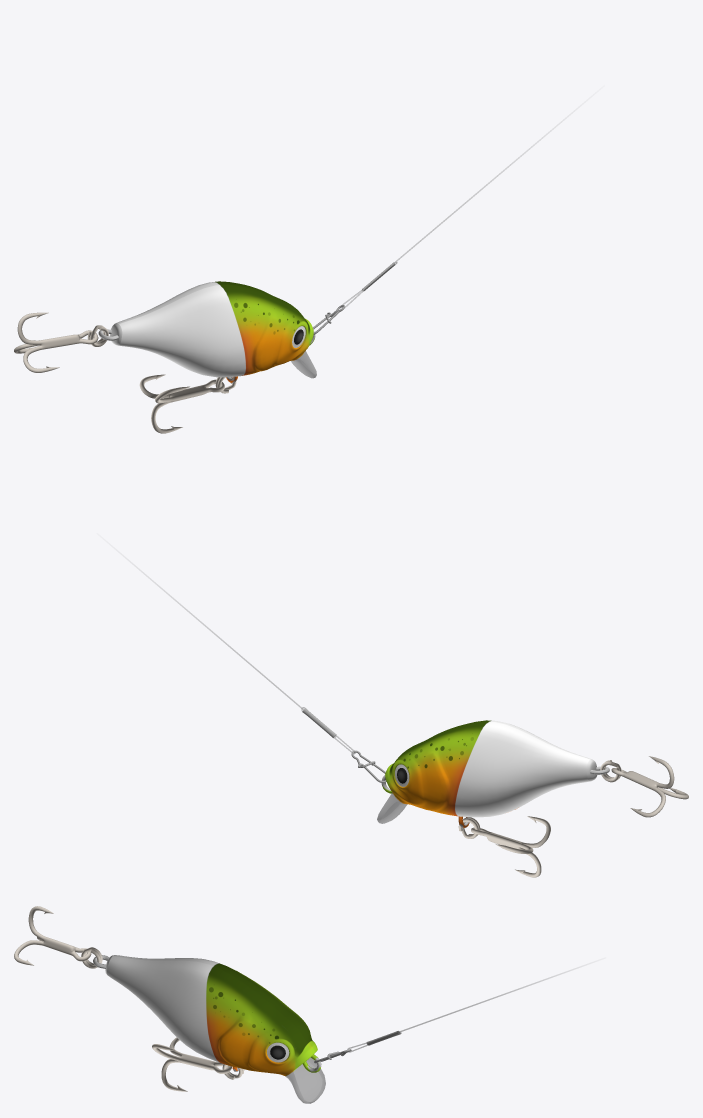
The model's file is chubby.gltf.
3 views of the same model, one above another, from view 1: azimuth 30°, elevation 25°; view 2: azimuth 150°, elevation 25°; view 3: azimuth 330°, elevation 25° (orthographic).
Visible parts, largest first — view 1: Mesh_1, Mesh_3, Mesh_2; view 2: Mesh_2, Mesh_3, Mesh_4, Mesh_1; view 3: Mesh_1, Mesh_3, Mesh_2, Mesh_4, Mesh_6.
Boxes of the visible parts, bbox=[...] form: Mesh_1: bbox=[118, 284, 316, 378]; Mesh_3: bbox=[14, 312, 316, 433]; Mesh_2: bbox=[116, 281, 306, 323]; Mesh_2: bbox=[385, 721, 589, 817]; Mesh_3: bbox=[377, 756, 688, 877]; Mesh_4: bbox=[380, 760, 658, 828]; Mesh_1: bbox=[377, 720, 591, 823]; Mesh_1: bbox=[107, 956, 325, 1103]; Mesh_3: bbox=[14, 906, 325, 1101]; Mesh_2: bbox=[113, 955, 317, 1052]; Mesh_4: bbox=[84, 949, 321, 1102]; Mesh_6: bbox=[347, 968, 575, 1052].
Bounding box in the file's own units: 48.3 × 20.04 × 5.06.
4 materials, 2 textured.
